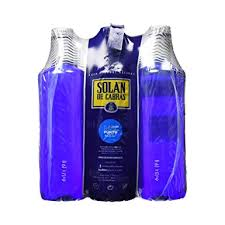solan de cabras: (35, 26, 189, 202)
